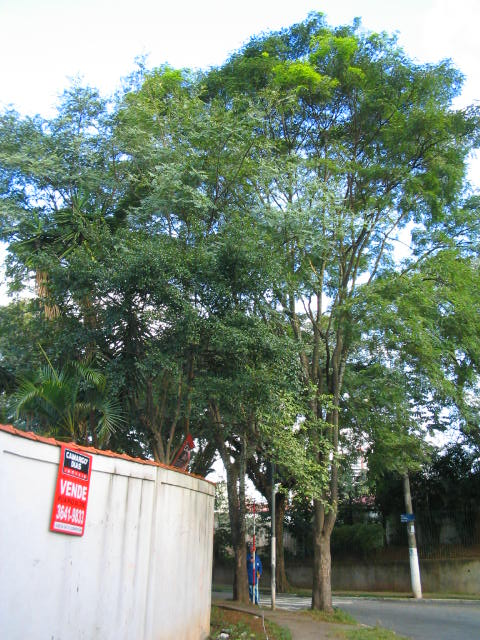stem: (303, 530, 346, 611)
stick: (247, 498, 262, 605)
